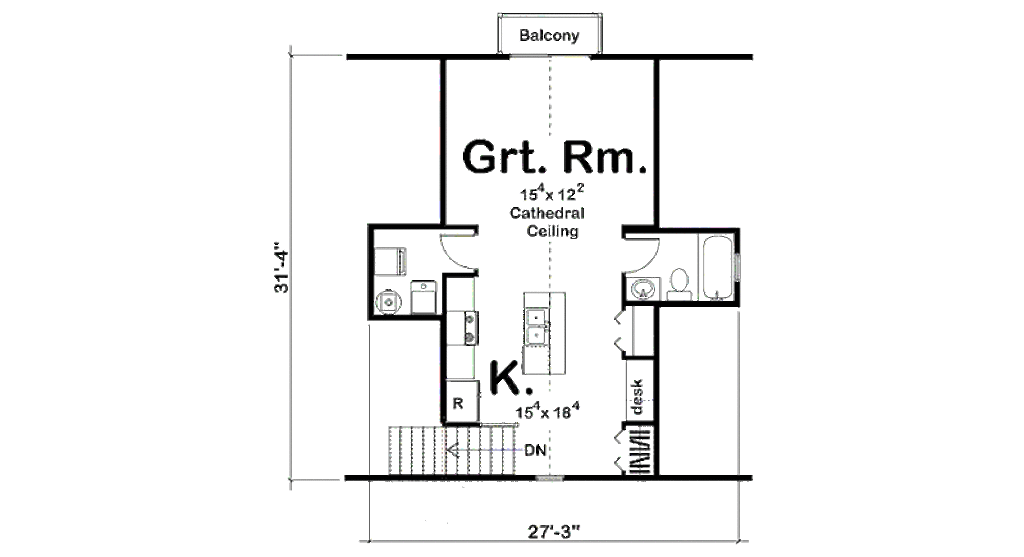door: (439, 226, 485, 274), (620, 232, 660, 276)
kitchen_bar: (505, 285, 581, 380)
large_sink: (659, 260, 691, 300)
small_sink: (625, 274, 660, 302)
stairs: (372, 411, 533, 479)
tub: (698, 233, 736, 298)
